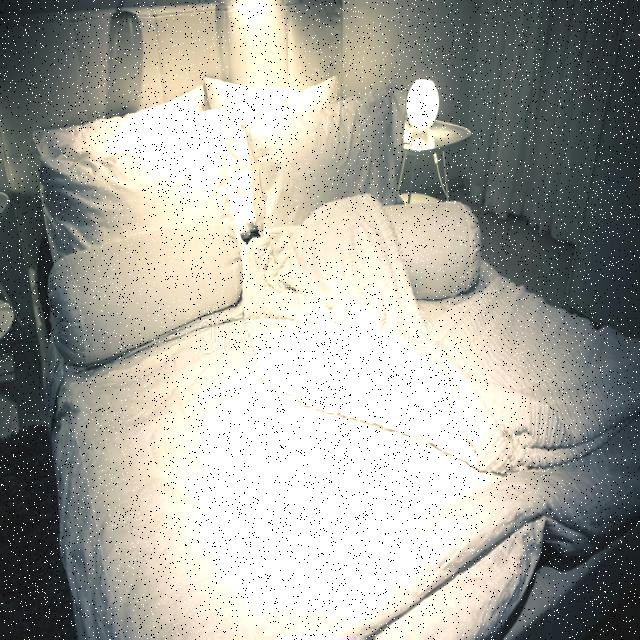bed: (7, 80, 640, 640)
